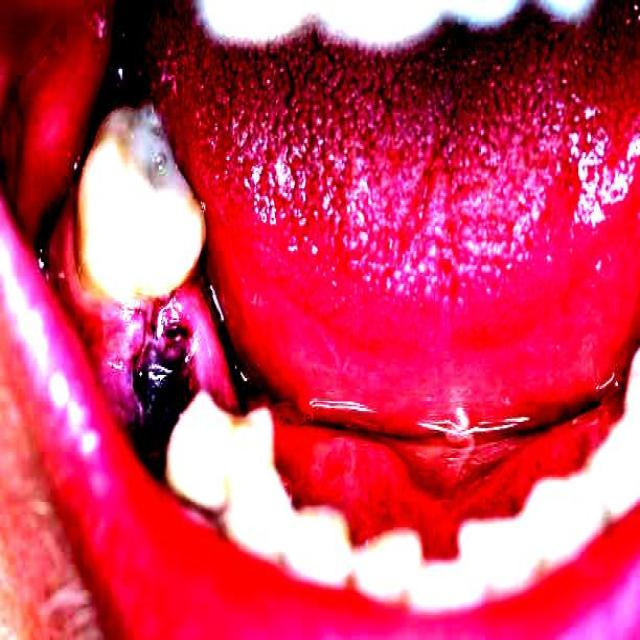caries: (113, 292, 230, 484)
